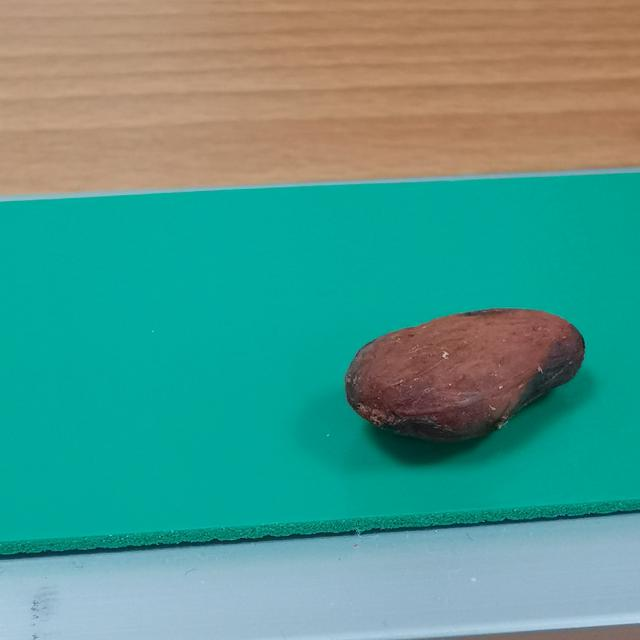Fine_cocoabeans: (271, 291, 634, 486)
